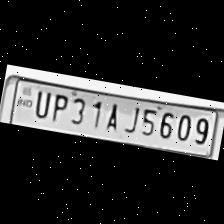0: (172, 110, 193, 141)
1: (84, 96, 104, 128)
3: (66, 93, 88, 127)
5: (136, 104, 158, 138)
6: (154, 108, 176, 140)
9: (190, 113, 212, 144)
A: (98, 97, 124, 132)
J: (121, 102, 141, 135)
P: (46, 90, 70, 124)
U: (30, 86, 52, 118)
